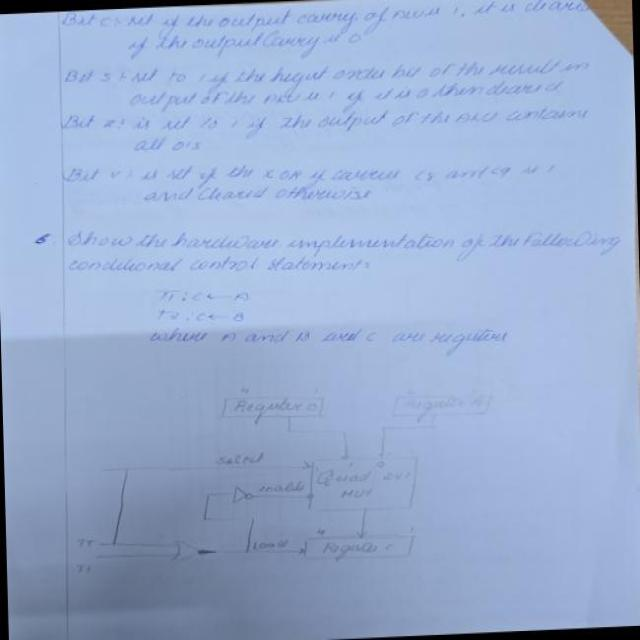Figure Detection - v3 Dataset Version2: (59, 358, 522, 593)
